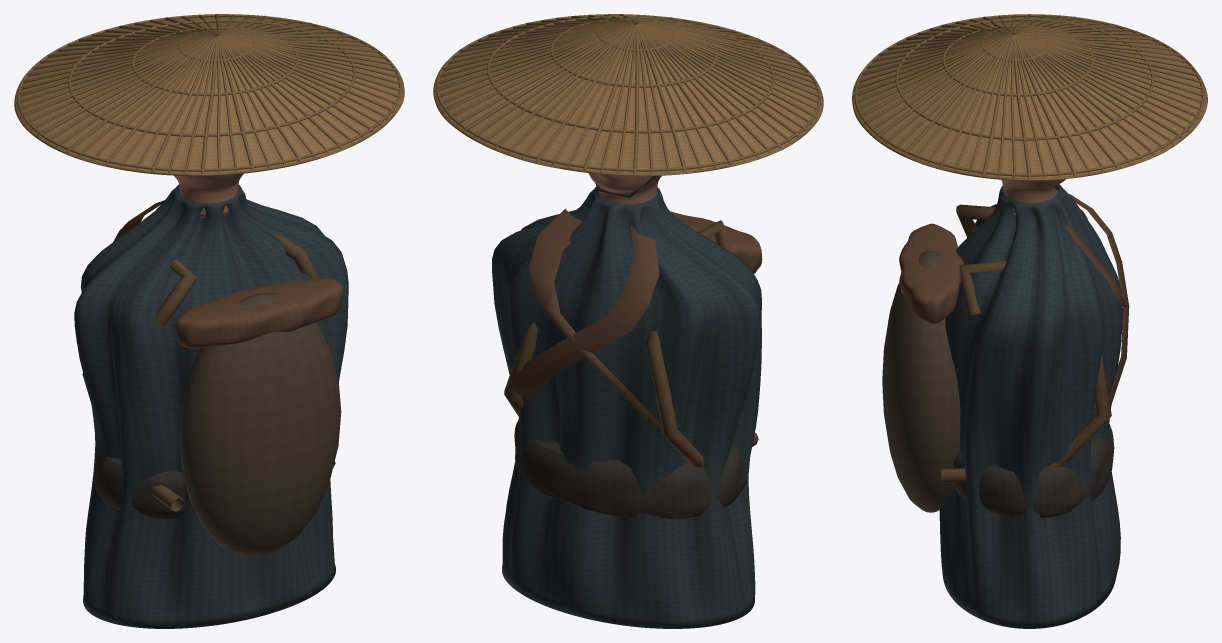
File: PilgrimBody.glb
3 views of the same model, side by side, from view 1: azimuth 30°, elevation 25°; view 2: azimuth 150°, elevation 25°; view 3: azimuth 270°, elevation 25° (orthographic). The views are drawn at different scales.
Parts seen in each view (by area): view 1: PilgrimBody; view 2: PilgrimBody; view 3: PilgrimBody.
Boxes of the visible parts, box(x1,y1,x2,y2) form: PilgrimBody: box(14, 14, 404, 628); PilgrimBody: box(433, 14, 823, 628); PilgrimBody: box(852, 14, 1207, 628).
Size of the model in its own units: 0.6583 by 1.01 by 0.6066.
Materials: 9 (6 with a texture image).
